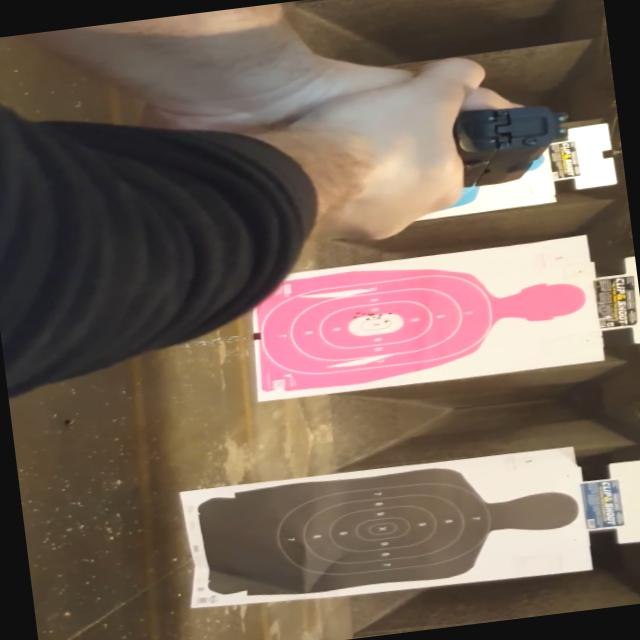handgun: (318, 96, 570, 210)
